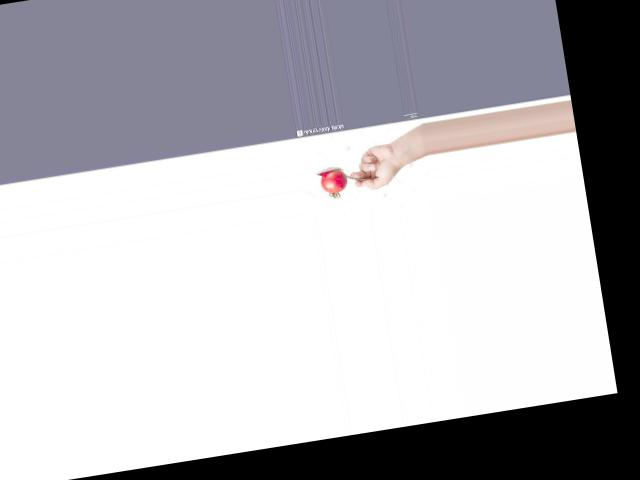tomato: (319, 168, 349, 195)
